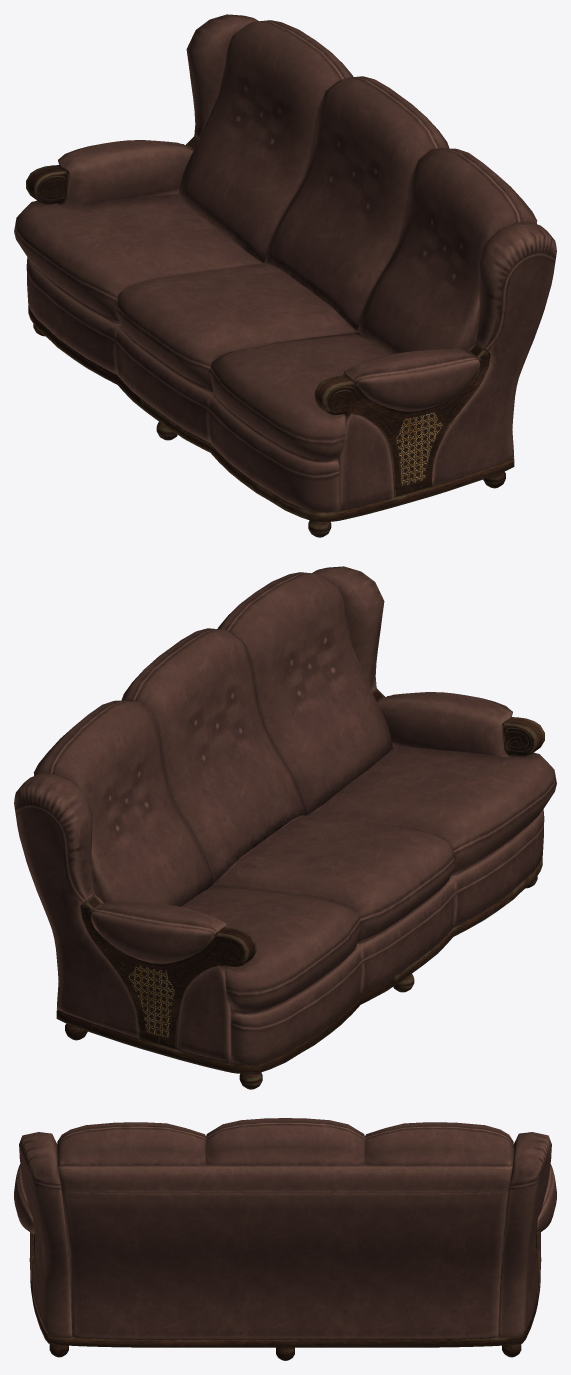
The model's file is sofa2.glb.
3 views of the same model, one above another, from view 1: azimuth 30°, elevation 25°; view 2: azimuth 150°, elevation 25°; view 3: azimuth 270°, elevation 25° (orthographic). The views are drawn at different scales.
Parts seen in each view (by area): view 1: sofa_classic_ch_models__textile_0, sofa_classic_ch_models__wood_0; view 2: sofa_classic_ch_models__textile_0, sofa_classic_ch_models__wood_0; view 3: sofa_classic_ch_models__textile_0, sofa_classic_ch_models__wood_0.
Part boxes in pixels (left/top/right/bottom): sofa_classic_ch_models__textile_0: left=14, top=14, right=556, bottom=512; sofa_classic_ch_models__wood_0: left=26, top=136, right=514, bottom=537; sofa_classic_ch_models__textile_0: left=14, top=566, right=556, bottom=1064; sofa_classic_ch_models__wood_0: left=56, top=688, right=544, bottom=1089; sofa_classic_ch_models__textile_0: left=14, top=1118, right=556, bottom=1339; sofa_classic_ch_models__wood_0: left=30, top=1233, right=540, bottom=1360.
Bounding box in the file's own units: 93.96 × 96.76 × 193.
2 materials, 2 textured.
